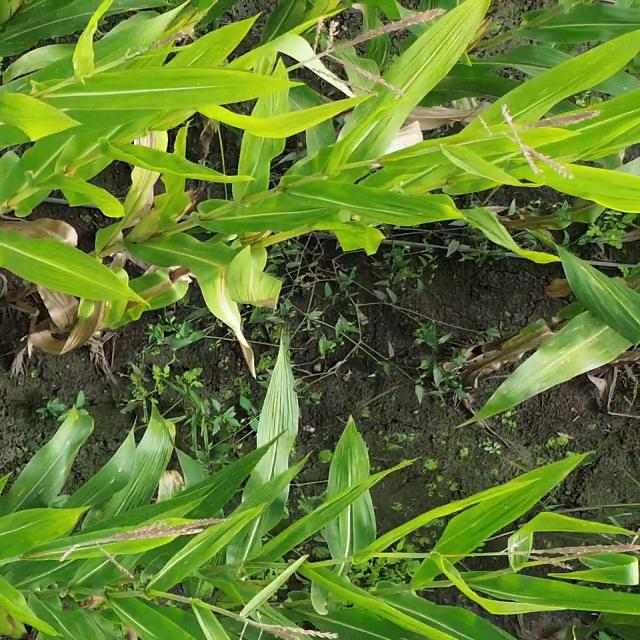gray-leaf-spot: (98, 462, 253, 532), (502, 312, 621, 400)
northern-leaf-blight: (199, 248, 276, 379), (111, 125, 173, 253)
